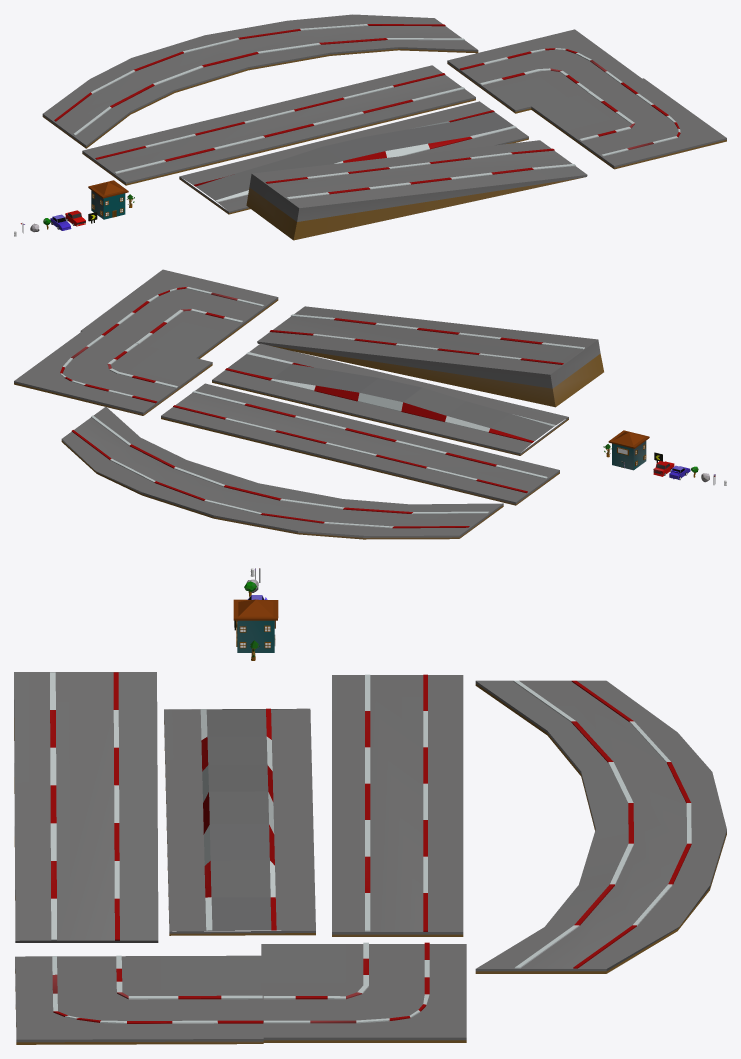
File: ModelosPack2.fbx
3 views of the same model, one above another, from view 1: azimuth 30°, elevation 25°; view 2: azimuth 150°, elevation 25°; view 3: azimuth 270°, elevation 25° (orthographic). The views are drawn at different scales.
Visible parts, largest first — view 1: Rampinha, CurvaAberta, Reta, MiniRampa, CurvaEsquerda, CurvaDireita, Casa; view 2: Rampinha, CurvaAberta, Reta, MiniRampa, CurvaEsquerda, CurvaDireita, Casa; view 3: CurvaAberta, Rampinha, Reta, MiniRampa, CurvaEsquerda, CurvaDireita, Casa.
Part boxes in pixels (x1,y1,x2,y2): Rampinha: (246,140,587,240); CurvaAberta: (42,14,478,148); Reta: (82,65,475,185); MiniRampa: (179,101,528,214); CurvaEsquerda: (531,78,726,169); CurvaDireita: (447,29,642,113); Casa: (88,180,128,219); Rampinha: (257,306,603,407); CurvaAberta: (61,406,503,539); Reta: (161,383,559,505); MiniRampa: (212,343,568,455); CurvaEsquerda: (80,269,278,358); CurvaDireita: (14,330,212,415); Casa: (608,430,649,470); CurvaAberta: (475,680,726,973); Rampinha: (14,672,158,942); Reta: (332,674,463,936); MiniRampa: (164,708,315,935); CurvaEsquerda: (15,955,263,1044); CurvaDireita: (261,942,466,1042); Casa: (233,599,278,652).
Bounding box in the file's own units: 45839 × 2756 × 29619.
